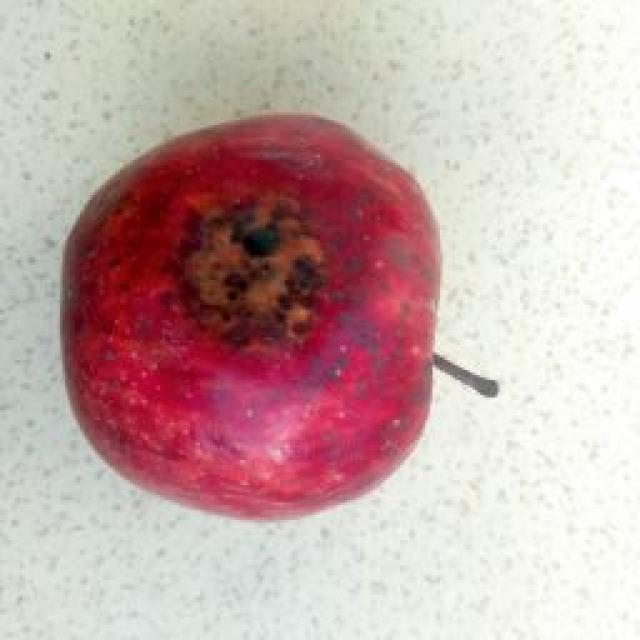Bad_Apple: (61, 114, 440, 517)
